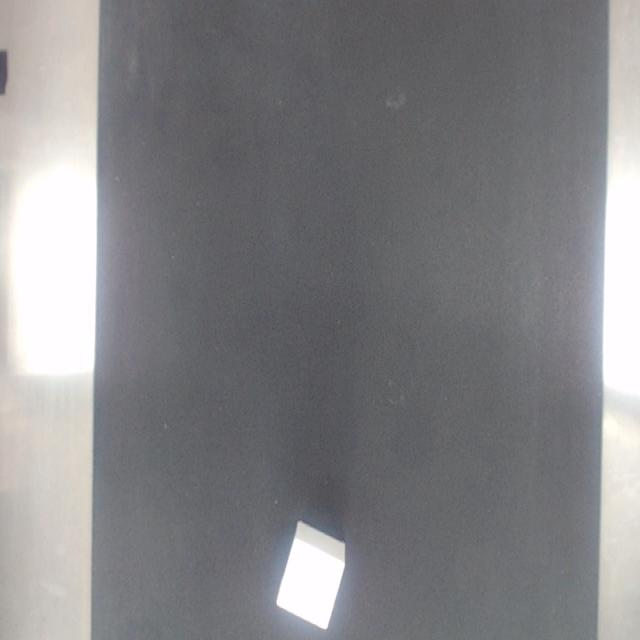Blanco: (278, 521, 344, 629)
